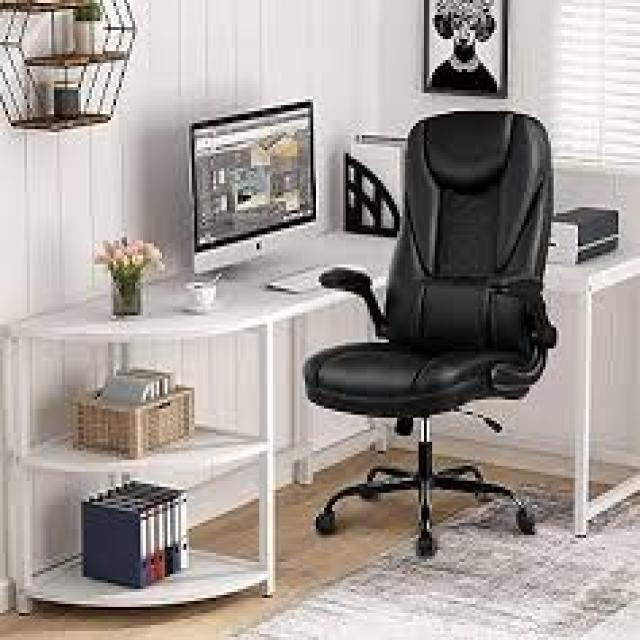chair: (268, 84, 602, 595)
